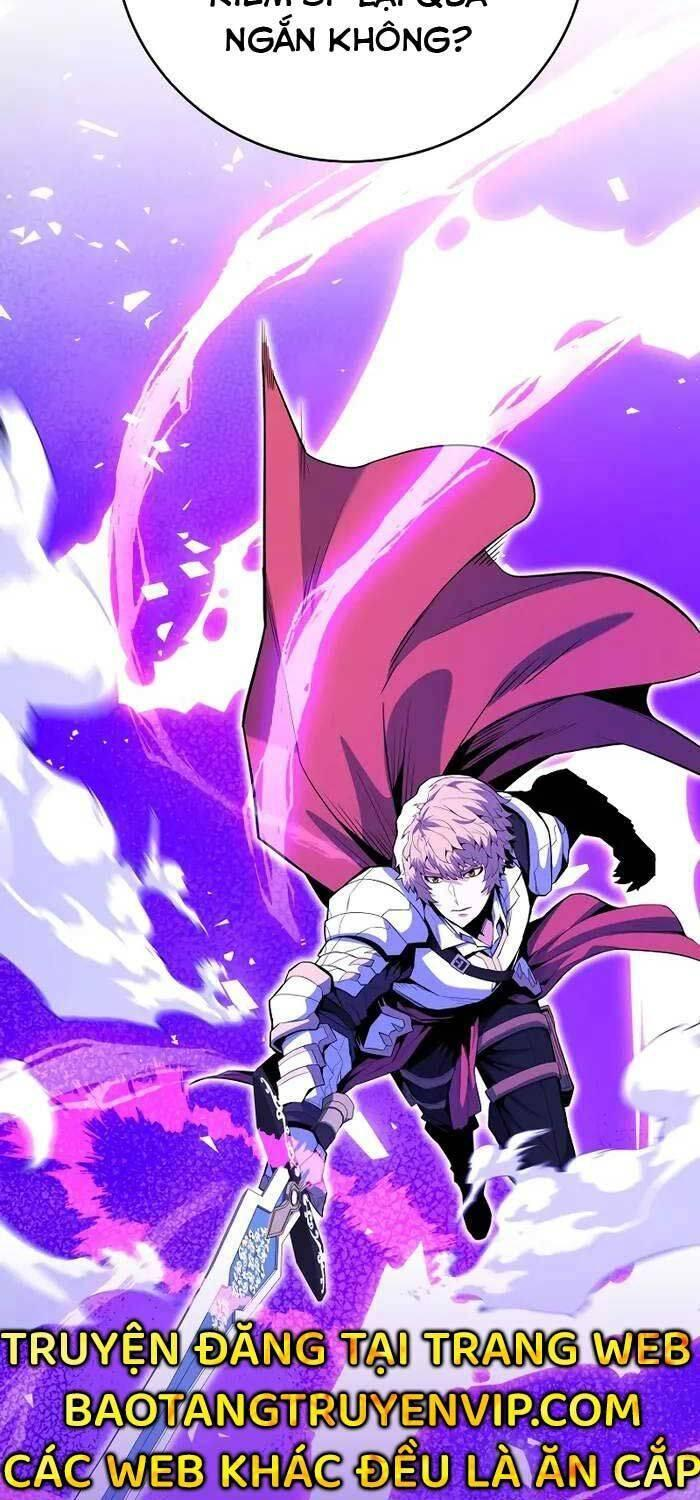quangcao: (2, 1314, 700, 1500)
